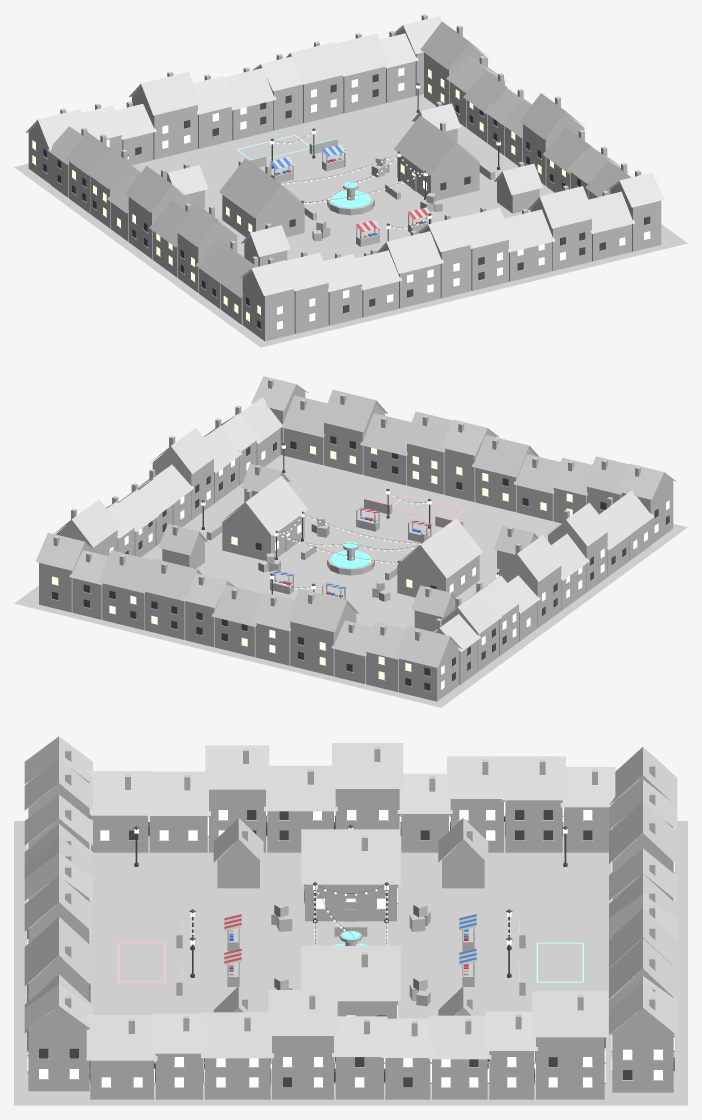
Rendered from dorp.glb.
3 views of the same model, one above another, from view 1: azimuth 30°, elevation 25°; view 2: azimuth 150°, elevation 25°; view 3: azimuth 270°, elevation 25° (orthographic). The views are drawn at different scales.
Parts seen in each view (by area): view 1: floor, huis_mid_1, huis_mid_-1, rand_25.6_3, rand_-25.6_0, rand_-25.6_8, rand_25.6_7, rand_-25.6_4, rand_25.6_8, rand_-25.6_6, rand_-25.6_4.001, rand_25.6_8.001 (+40 smaller); view 2: floor, huis_mid_1, huis_mid_-1, rand_25.6_3, rand_25.6_0, rand_-25.6_8, rand_25.6_7, rand_-25.6_4, rand_25.6_8, rand_-25.6_4.001, rand_-25.6_6, rand_25.6_3.001 (+38 smaller); view 3: floor, huis_mid_-1, rand_25.6_8.001, rand_25.6_3.001, rand_25.6_10, huis_mid_1, rand_-25.6_10, rand_-25.6_4.001, rand_25.6_2.001, rand_-25.6_7.001, rand_25.6_0.001, rand_-25.6_2.001 (+35 smaller).
Part boxes in pixels (<box>): floor: <box>14,94,687,347</box>; huis_mid_1: <box>394,115,481,200</box>; huis_mid_-1: <box>219,158,305,237</box>; rand_25.6_3: <box>129,71,201,159</box>; rand_-25.6_0: <box>239,258,297,341</box>; rand_-25.6_8: <box>528,185,595,271</box>; rand_25.6_7: <box>286,41,346,123</box>; rand_-25.6_4: <box>376,230,443,308</box>; rand_25.6_8: <box>335,33,389,113</box>; rand_-25.6_6: <box>463,207,512,290</box>; rand_-25.6_4.001: <box>125,166,191,259</box>; rand_25.6_8.001: <box>420,21,488,105</box>; floor: <box>14,455,687,707</box>; huis_mid_1: <box>221,475,307,560</box>; huis_mid_-1: <box>395,518,482,597</box>; rand_25.6_3: <box>287,588,359,676</box>; rand_25.6_0: <box>395,626,462,701</box>; rand_-25.6_8: <box>320,389,387,474</box>; rand_25.6_7: <box>141,558,201,639</box>; rand_-25.6_4: <box>472,435,539,512</box>; rand_25.6_8: <box>99,550,152,629</box>; rand_-25.6_4.001: <box>499,535,564,628</box>; rand_-25.6_6: <box>403,411,452,494</box>; rand_25.6_3.001: <box>151,428,217,520</box>; floor: <box>14,821,687,1105</box>; huis_mid_-1: <box>301,829,400,921</box>; rand_25.6_8.001: <box>532,991,608,1099</box>; rand_25.6_3.001: <box>268,990,337,1099</box>; rand_25.6_10: <box>609,983,677,1092</box>; huis_mid_1: <box>301,946,400,1018</box>; rand_-25.6_10: <box>24,984,92,1091</box>; rand_-25.6_4.001: <box>332,743,403,836</box>; rand_25.6_2.001: <box>201,1012,273,1099</box>; rand_-25.6_7.001: <box>502,756,565,852</box>; rand_25.6_0.001: <box>86,1015,157,1099</box>; rand_-25.6_2.001: <box>205,745,269,852</box>.
Bounding box in the file's own units: 66 × 10.5 × 66.
